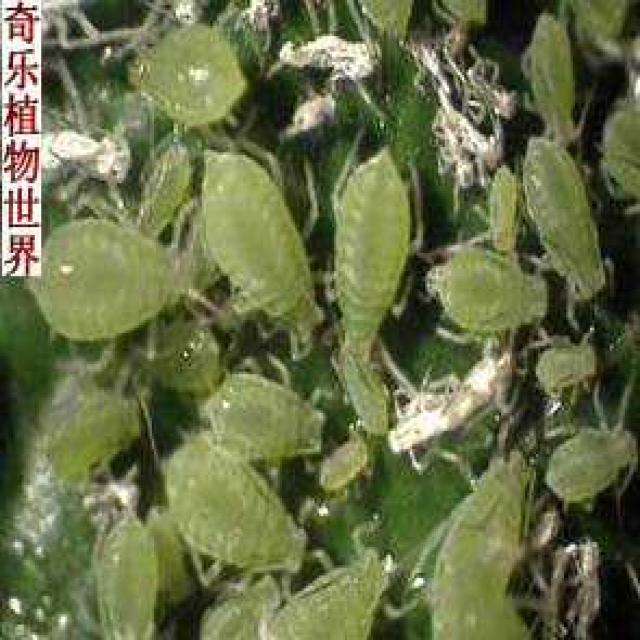Aphids: (47, 32, 630, 584)
